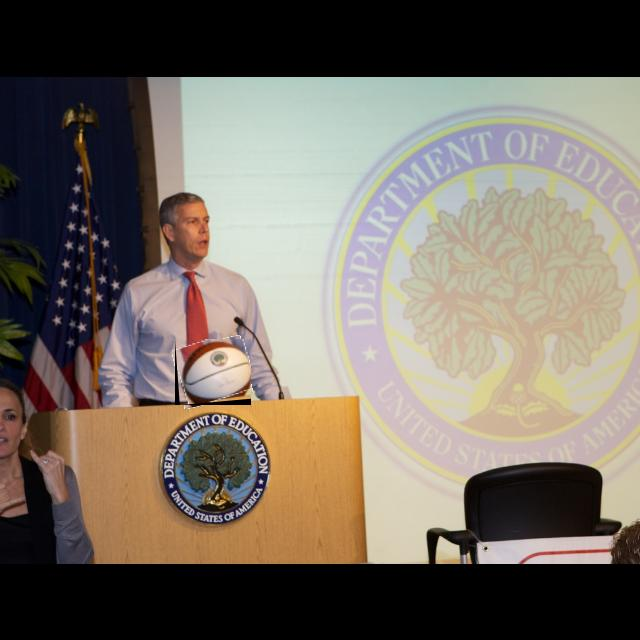Football: (175, 339, 251, 405)
